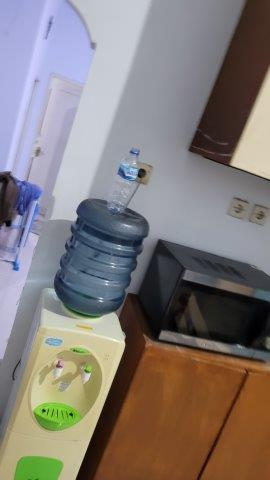botolplastik: (107, 148, 143, 211)
